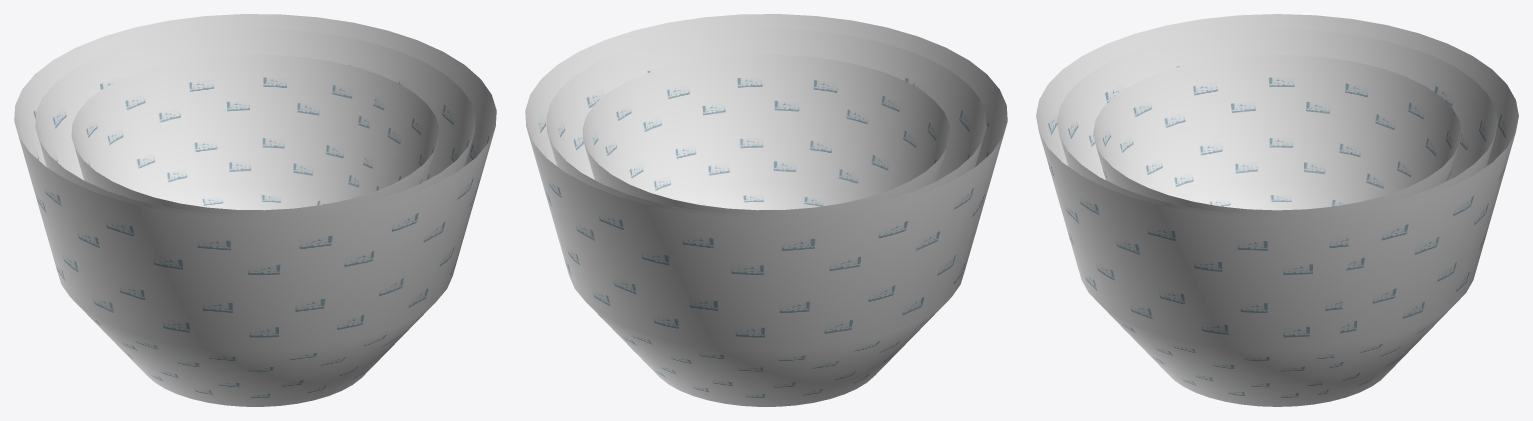
3 renders of one model, left to right at view 1: azimuth 30°, elevation 25°; view 2: azimuth 150°, elevation 25°; view 3: azimuth 270°, elevation 25°, orthographic.
Parts seen in each view (by area): view 1: en_06, en_04, en_05; view 2: en_06, en_04, en_05; view 3: en_06, en_04, en_05.
Boxes of the visible parts, left/top/right/bottom form: en_06: left=14, top=14, right=496, bottom=406; en_04: left=71, top=54, right=439, bottom=214; en_05: left=35, top=29, right=475, bottom=217; en_06: left=525, top=14, right=1007, bottom=406; en_04: left=582, top=54, right=950, bottom=214; en_05: left=546, top=29, right=986, bottom=217; en_06: left=1036, top=14, right=1518, bottom=406; en_04: left=1093, top=54, right=1461, bottom=215; en_05: left=1057, top=29, right=1497, bottom=217.
Bounding box in the file's own units: 5223 × 2885 × 5223.
Materials: 1 (1 with a texture image).
